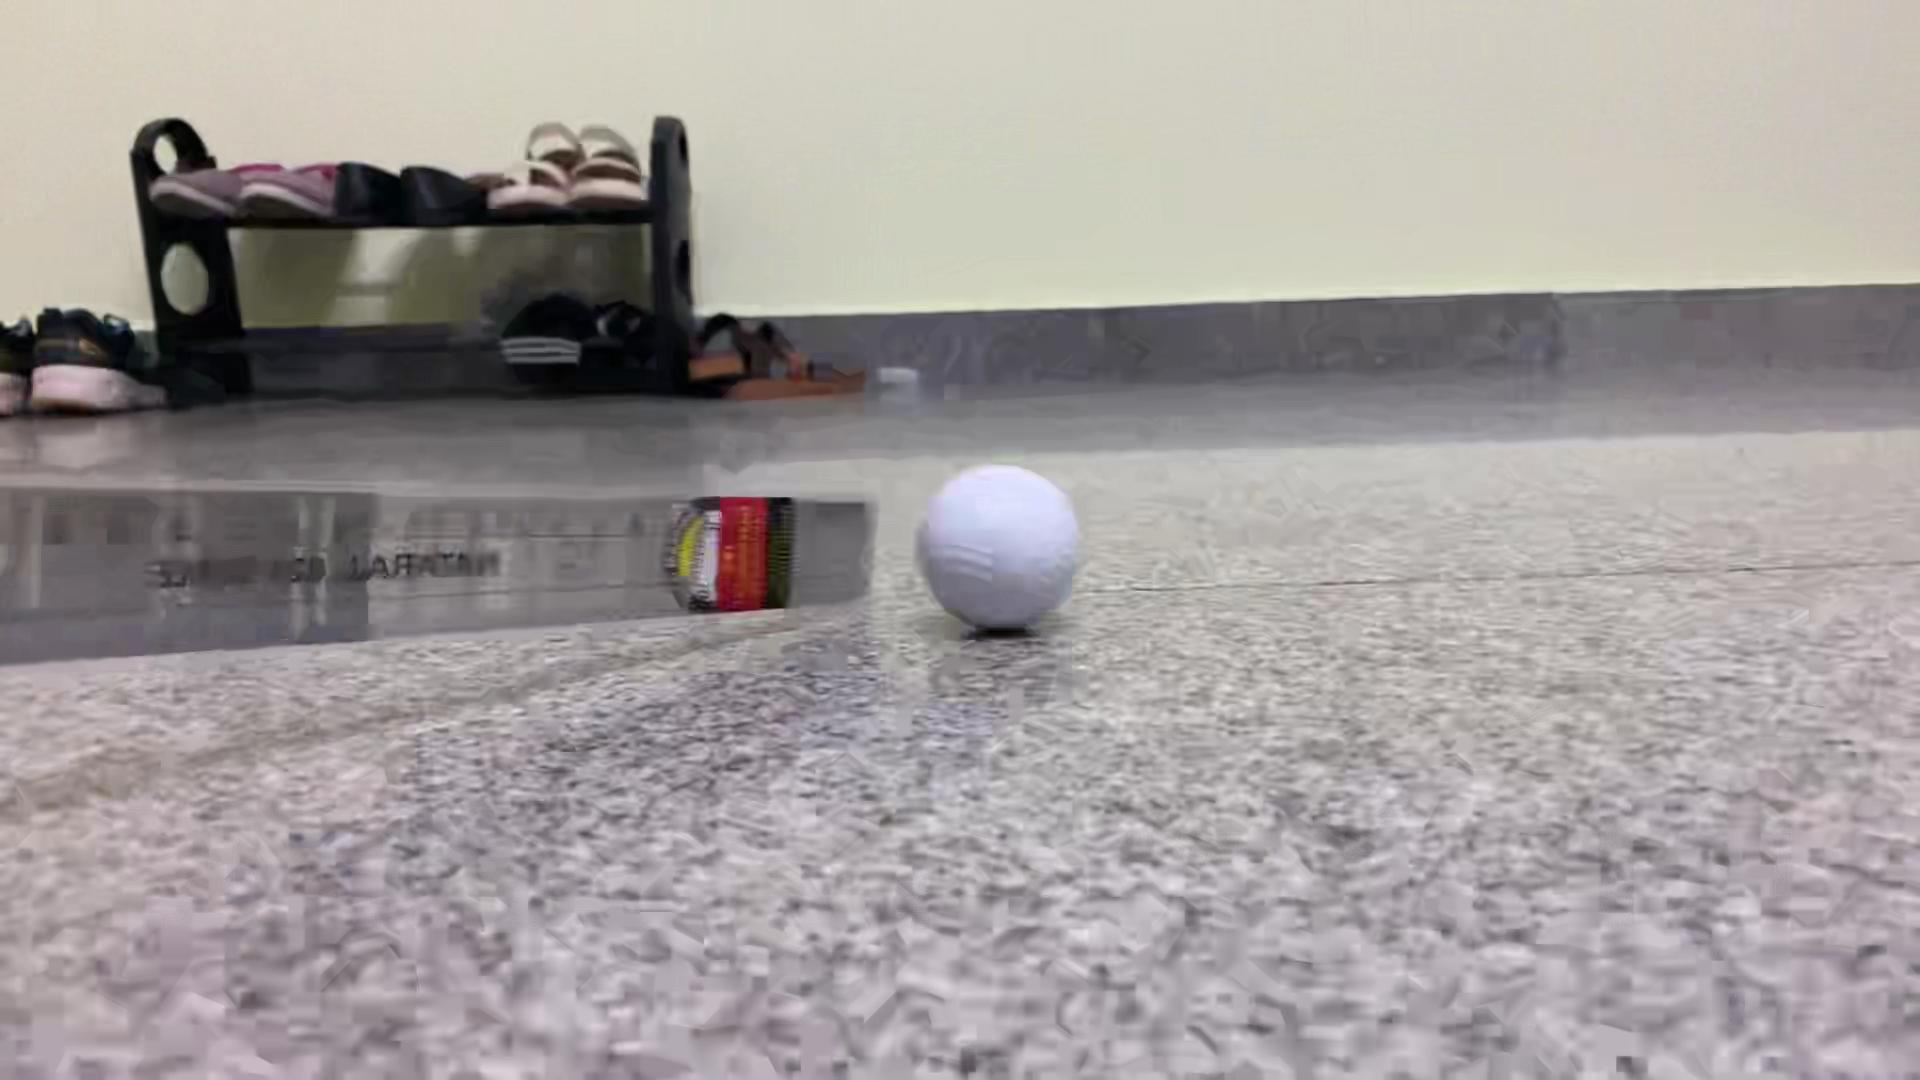golfball: (917, 465, 1082, 631)
